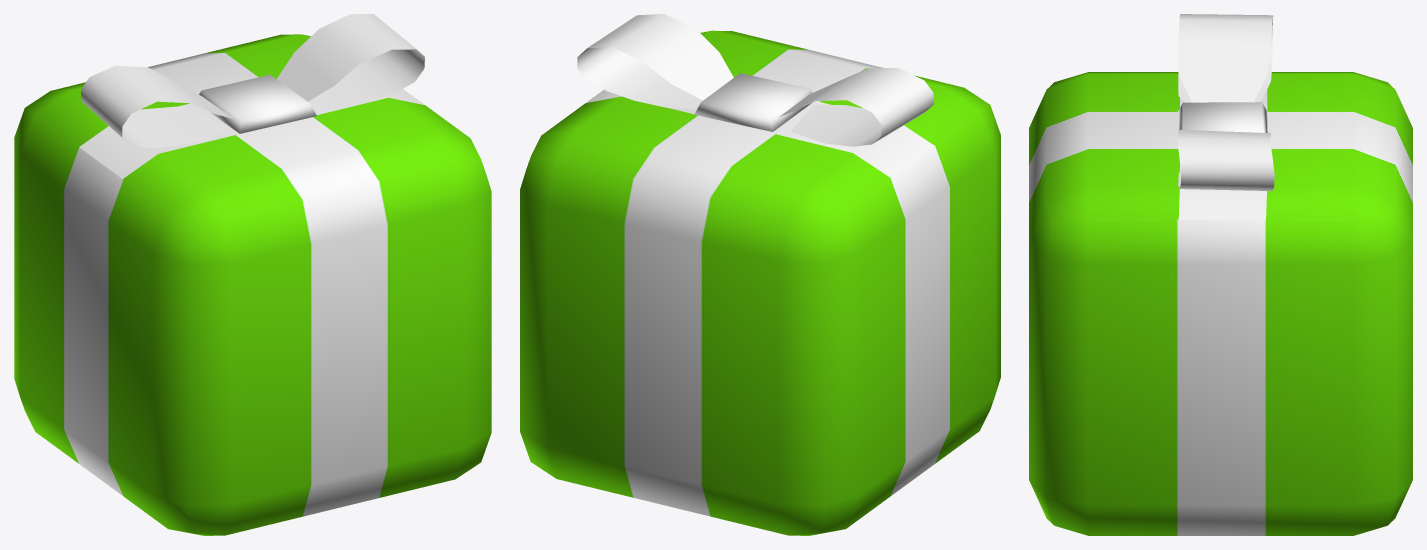
File: green_gift.glb
3 views of the same model, side by side, from view 1: azimuth 30°, elevation 25°; view 2: azimuth 150°, elevation 25°; view 3: azimuth 270°, elevation 25° (orthographic).
Visible parts, largest first — view 1: Green_Gift; view 2: Green_Gift; view 3: Green_Gift.
Boxes of the visible parts, x1,y1,x2,y2 form: Green_Gift: (14,14,491,535); Green_Gift: (520,14,1000,535); Green_Gift: (1029,14,1412,535).
Bounding box in the file's own units: 0.4562 × 0.5279 × 0.4562.
1 material, 1 textured.
